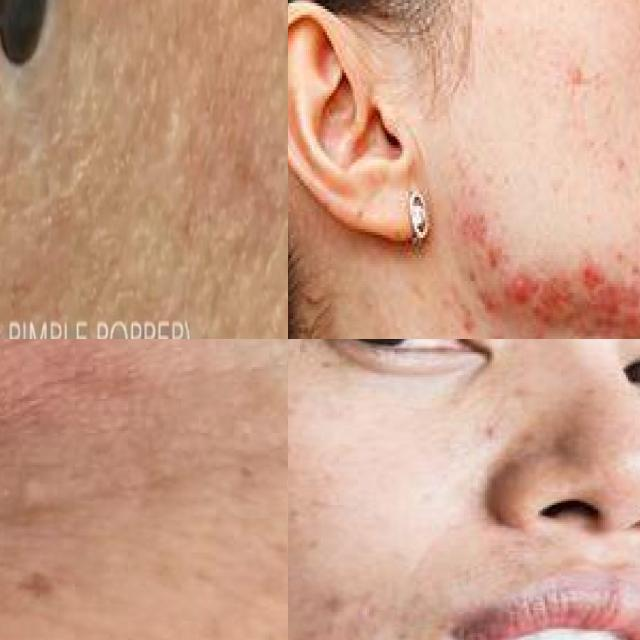acne_scars: (536, 252, 634, 339)
comedone: (0, 0, 67, 118)
milium: (0, 460, 143, 533)
papule: (487, 258, 538, 325)
